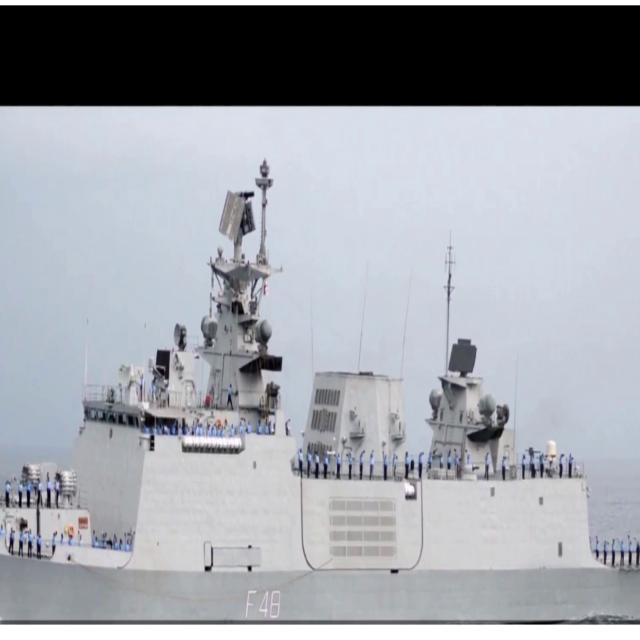OCR: (235, 586, 288, 623)
